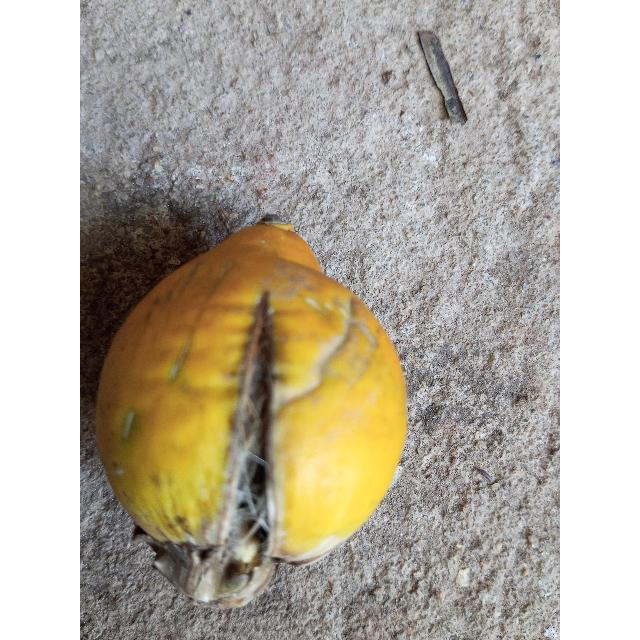damaged: (96, 215, 406, 608)
